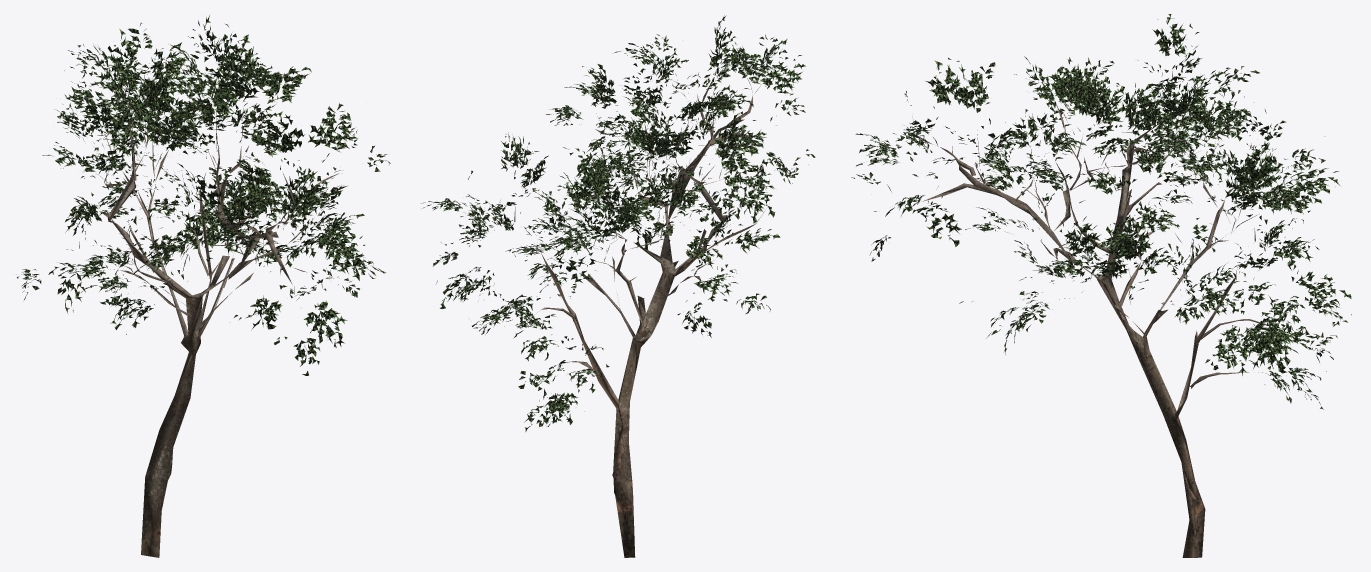
The model's file is tree_small_02_4k.glb.
3 renders of one model, left to right at view 1: azimuth 30°, elevation 25°; view 2: azimuth 150°, elevation 25°; view 3: azimuth 270°, elevation 25°, orthographic. The views are drawn at different scales.
Parts seen in each view (by area): view 1: tree_small_02_LOD0; view 2: tree_small_02_LOD0; view 3: tree_small_02_LOD0.
Boxes of the visible parts, left/top/right/bottom form: tree_small_02_LOD0: left=17, top=15, right=390, bottom=557; tree_small_02_LOD0: left=421, top=15, right=815, bottom=557; tree_small_02_LOD0: left=851, top=14, right=1351, bottom=557.
Bounding box in the file's own units: 2.87 × 4.54 × 4.14.
3 materials, 3 textured.
